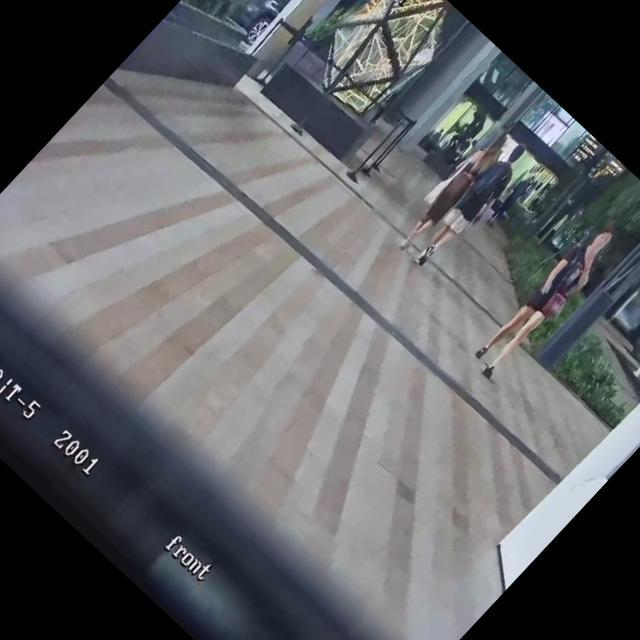person: (466, 214, 628, 385), (406, 136, 538, 275), (388, 126, 514, 259), (484, 172, 538, 228)
